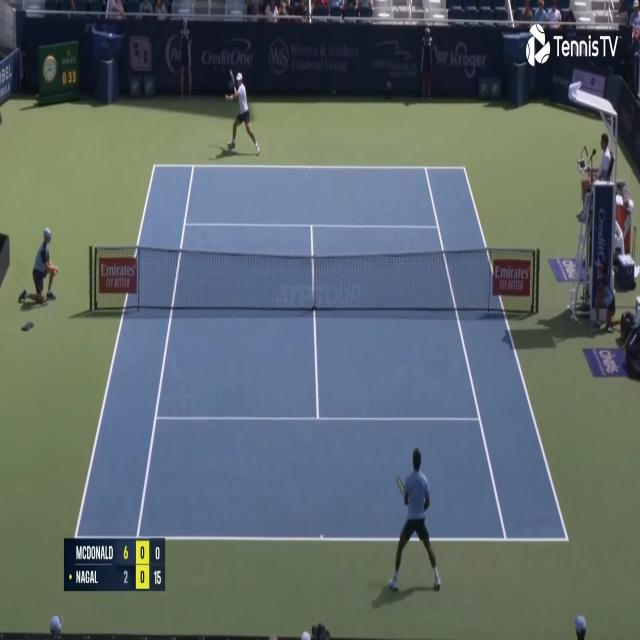tennis-player: (385, 442, 444, 599), (224, 68, 262, 160)
